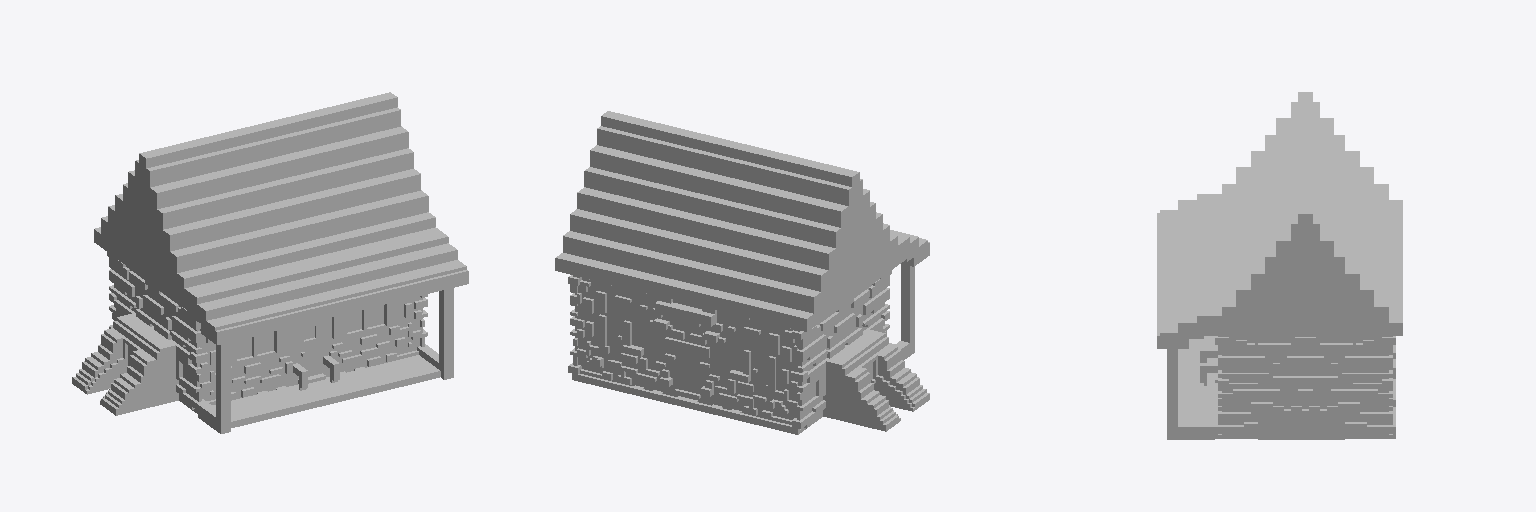
Rendered from house_2.obj.
The picture shows the model from 3 angles: view 1: azimuth 30°, elevation 25°; view 2: azimuth 150°, elevation 25°; view 3: azimuth 270°, elevation 25°; orthographic projection.
Parts seen in each view (by area): view 1: house_2; view 2: house_2; view 3: house_2.
Boxes of the visible parts, box(x1,y1,x2,y2) form: house_2: box(72, 92, 468, 433); house_2: box(555, 111, 929, 434); house_2: box(1157, 92, 1402, 439).
Size of the model in its own units: 96 by 70 by 68.